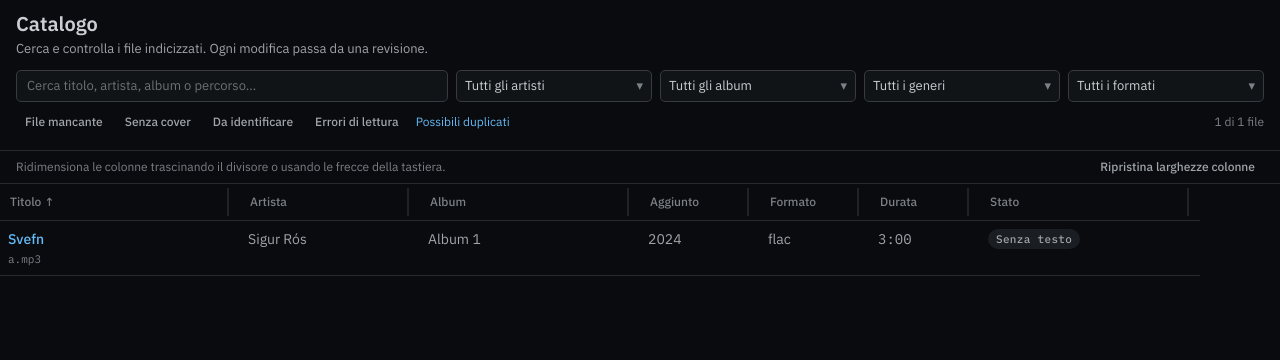
Catalog facets › shows facet pagination load more for high cardinality
This screenshot has width=1280, height=360.
Click the button "Tutti gli artisti ▾" at (554, 86), box [456, 70, 652, 102]
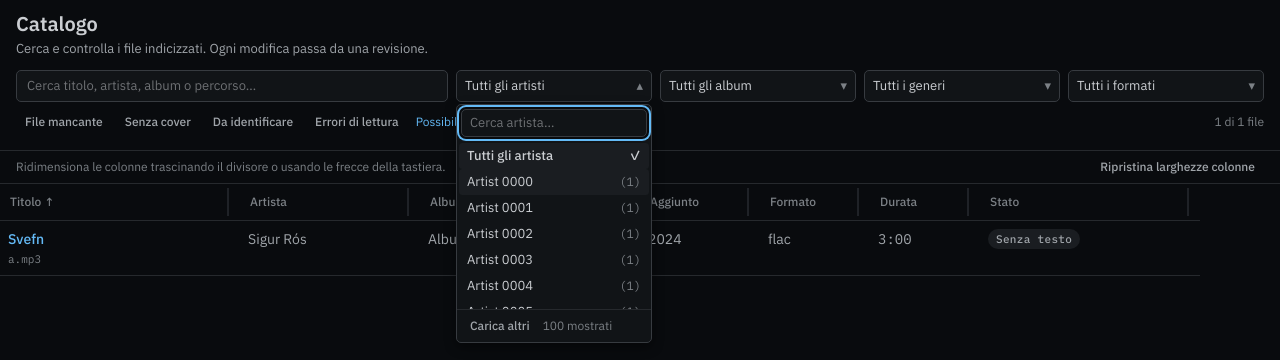
Now the text "Artist 0000" is shown, box [467, 173, 533, 191]
Now the button "Carica altri" is shown
Click the button "Carica altri" at (500, 326), box [461, 314, 539, 338]
(page scrolled)
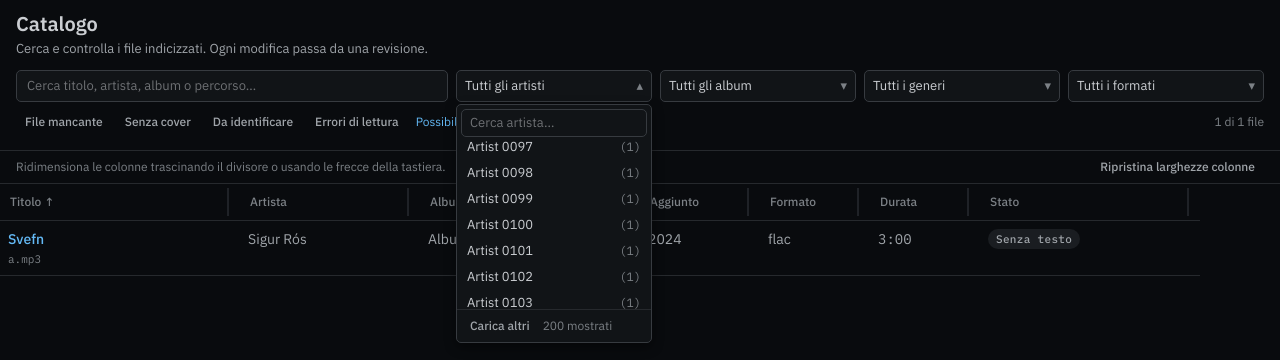
Now the text "Artist 0100" is shown, box [467, 216, 533, 234]
